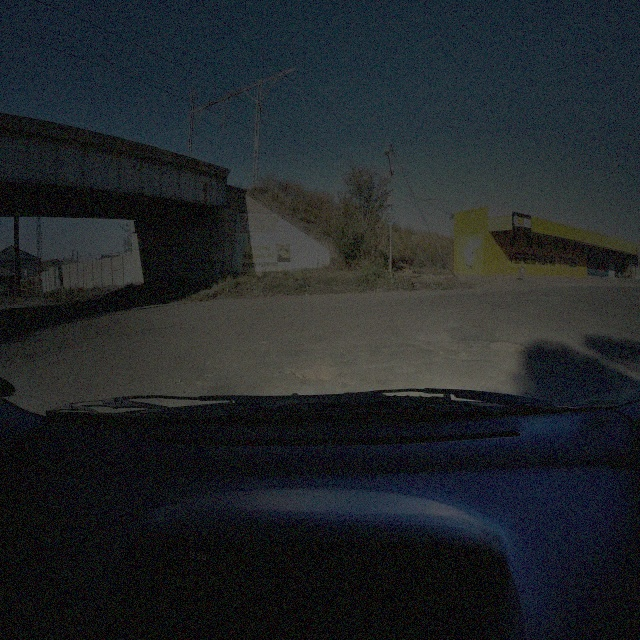pothole: (292, 364, 340, 382), (488, 340, 528, 355), (458, 349, 471, 365)
